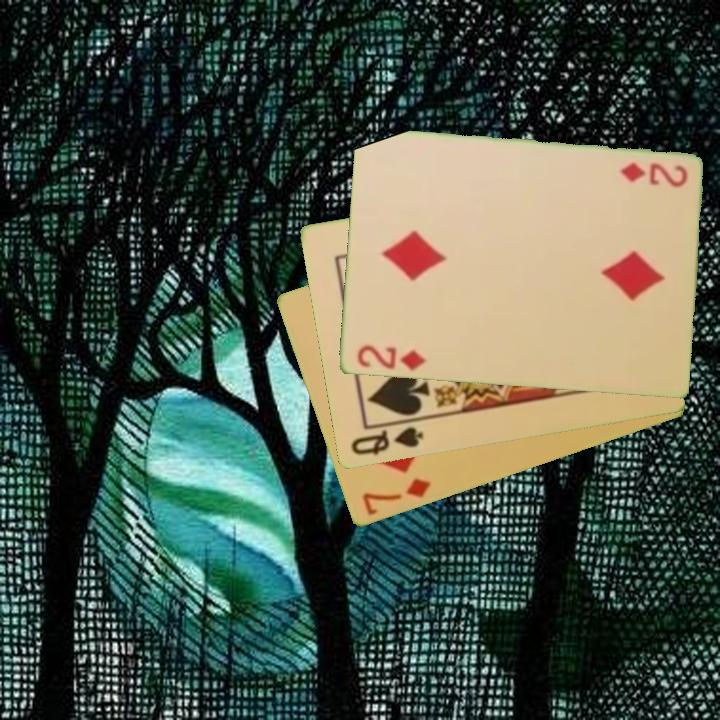2d: (353, 342, 429, 374), (617, 159, 690, 189)
7d: (358, 475, 433, 519)
Qs: (347, 423, 426, 459)
